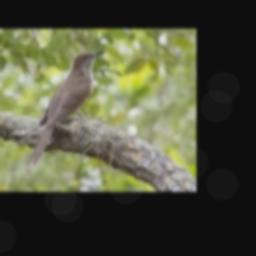Cuckoo: (26, 50, 105, 168)
